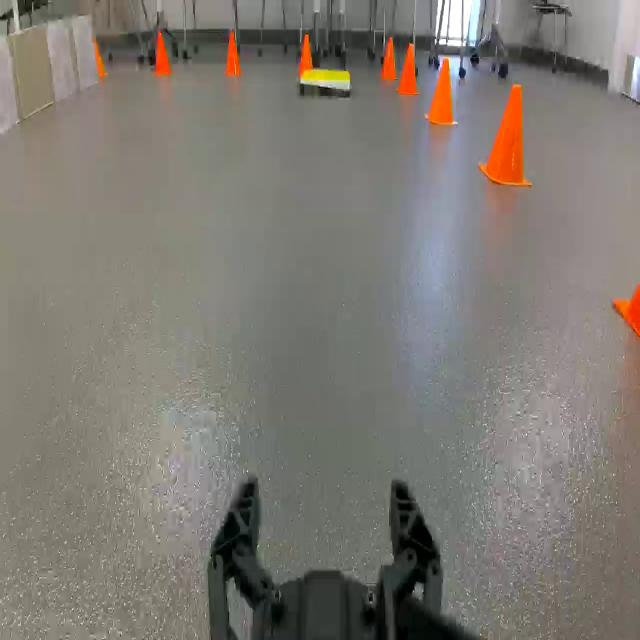cone: (482, 82, 534, 188), (423, 60, 460, 129), (395, 42, 421, 98), (148, 31, 175, 79), (220, 30, 243, 79), (379, 36, 398, 81), (296, 33, 316, 75)
storage cube: (3, 17, 82, 121), (0, 18, 48, 147), (36, 17, 108, 102)
yellow goal: (297, 66, 354, 98)
